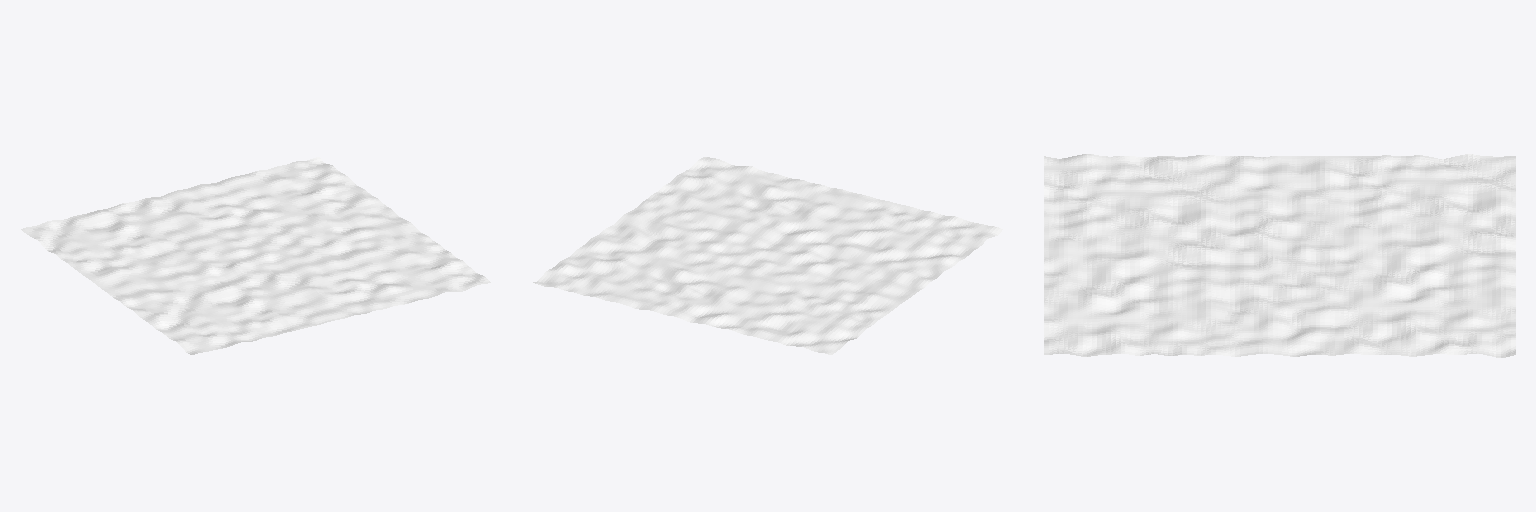
URDF robot description (terrain):
<?xml version="1.0" ?>
<robot name="terrain">
  <link name="terrainLink">
  <contact>
      <lateral_friction value="1"/>
  </contact>
    <inertial>
      <origin rpy="0 0 0" xyz="0 0 0"/>
       <mass value=".0"/>
       <inertia ixx="0" ixy="0" ixz="0" iyy="0" iyz="0" izz="0"/>
    </inertial>
    <visual>
      <origin rpy="0 0 0" xyz="0 0 0"/>
      <geometry>
        <mesh filename="generated_terrain_lab.obj" scale="1 1 1"/>
      </geometry>
        <material name="white">
         <color rgba="1 1 1 1"/>
      </material>
    </visual>
    <collision concave="yes">
      <origin rpy="0 0 0" xyz="0 0 0"/>
      <geometry>
        <mesh filename="generated_terrain_lab.obj" scale="1 1 1"/>
      </geometry>
    </collision>
  </link>
</robot>

--- Render facts (derived) ---
3 views of the same robot in one strip: view 1: azimuth 30°, elevation 25°; view 2: azimuth 150°, elevation 25°; view 3: azimuth 270°, elevation 25° (orthographic).
Model terrain with 1 links and 0 joints (none), rooted at terrainLink, posed every joint at zero.
Links seen in each view (by area): view 1: terrainLink; view 2: terrainLink; view 3: terrainLink.
Boxes of the visible links, x1=… form: terrainLink: x1=21, y1=157, x2=490, y2=354; terrainLink: x1=533, y1=157, x2=1002, y2=354; terrainLink: x1=1044, y1=154, x2=1515, y2=357.
Size in the robot's own frame: 100 by 100 by 1.68 metres.
Meshes: 1 distinct files referenced, 1 mesh visuals loaded (1 OBJ).
